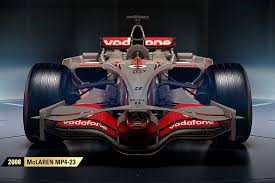FormulaOneCar: (22, 11, 256, 156)
